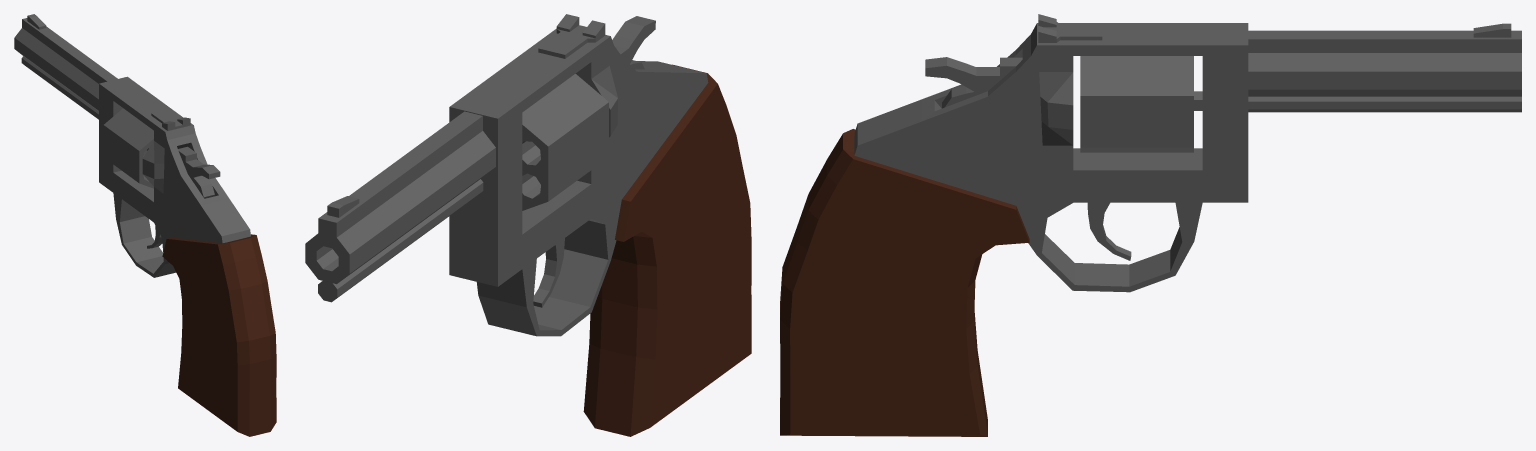
File: Revolver.fbx
3 renders of one model, left to right at view 1: azimuth 30°, elevation 25°; view 2: azimuth 150°, elevation 25°; view 3: azimuth 270°, elevation 25°, orthographic. The views are drawn at different scales.
Parts seen in each view (by area): view 1: Revolver; view 2: Revolver; view 3: Revolver.
Boxes of the visible parts, bbox=[...] form: Revolver: bbox=[14, 14, 276, 436]; Revolver: bbox=[305, 14, 751, 436]; Revolver: bbox=[780, 14, 1521, 436].
Size of the model in its own units: 6.93 by 52.12 by 31.47.
